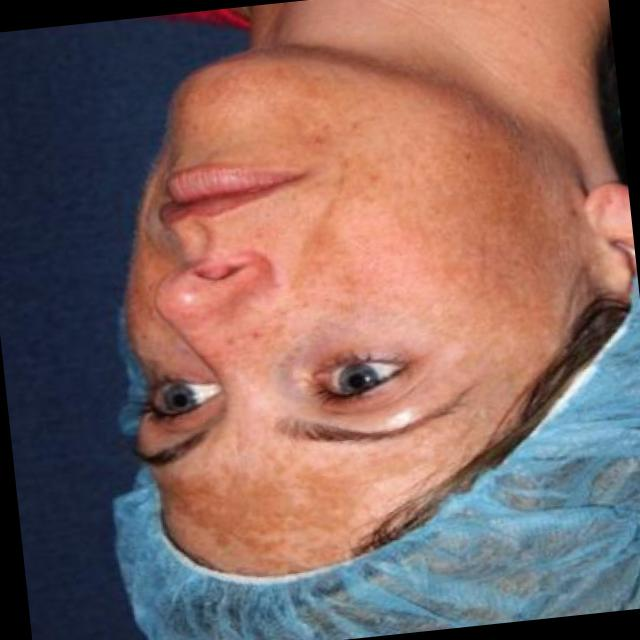melasma: (245, 68, 591, 372), (145, 369, 541, 578)
